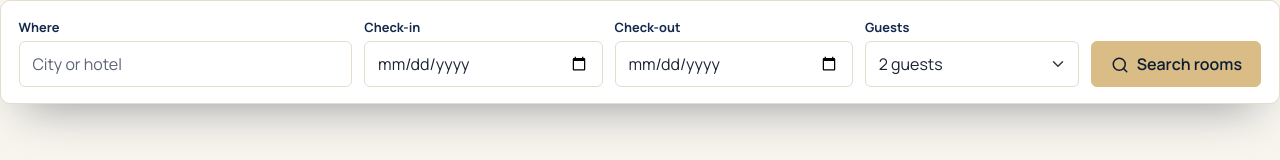
SearchBar › rejects a check-out before check-in
Type "2026-11-10" into the date field labelled "Check-in". click: (483, 64)
box: x1=364 y1=42 x2=603 y2=87
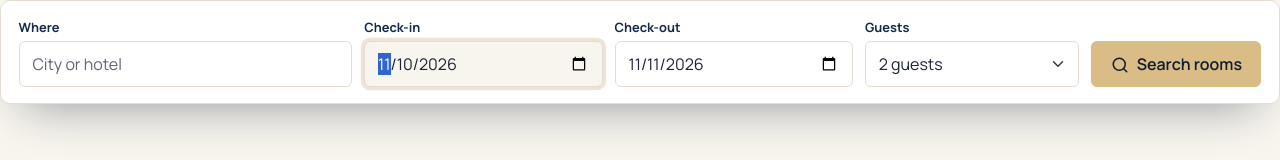
Type "2026-11-08" into the date field labelled "Check-out". click: (734, 64)
box: x1=615 y1=42 x2=853 y2=87
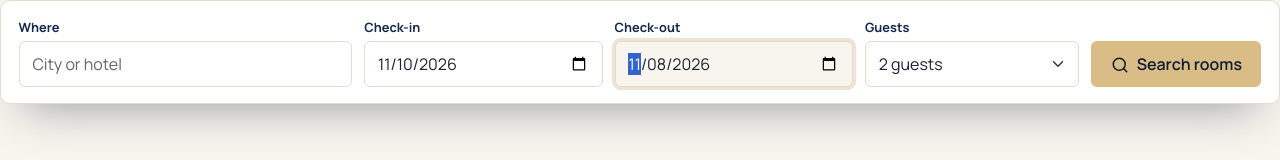
Click the button "Search rooms". click: (1176, 64)
box: x1=1091 y1=41 x2=1261 y2=87
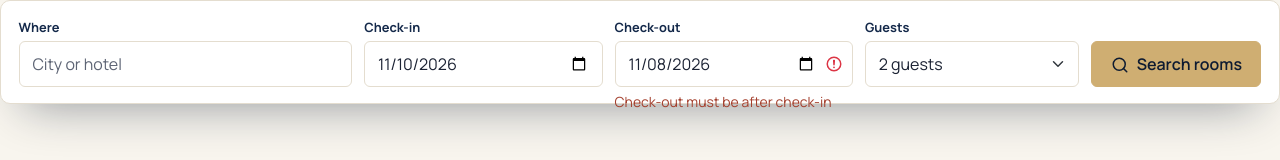
Check: the text "Check-out must be after check-in" is shown, box x1=615 y1=91 x2=853 y2=113
